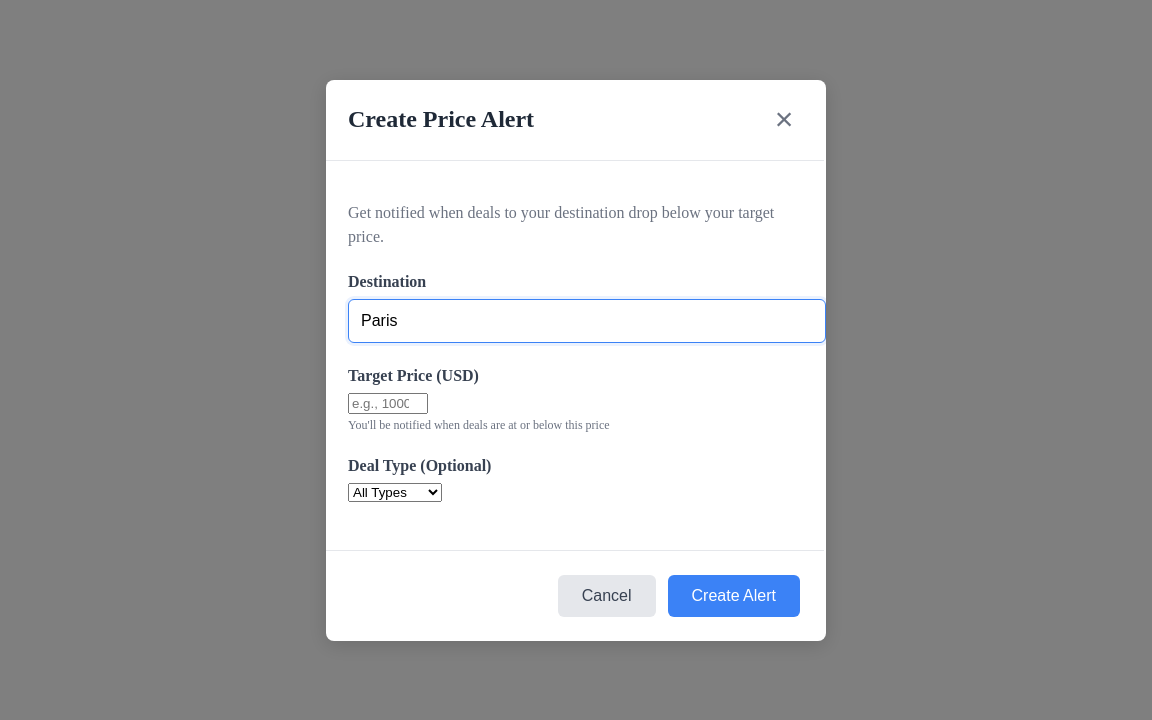
CreateAlertModal › validates invalid price
Default price is empty
Click the button "Create Alert".
click(734, 596)  # box [668,574,800,616]
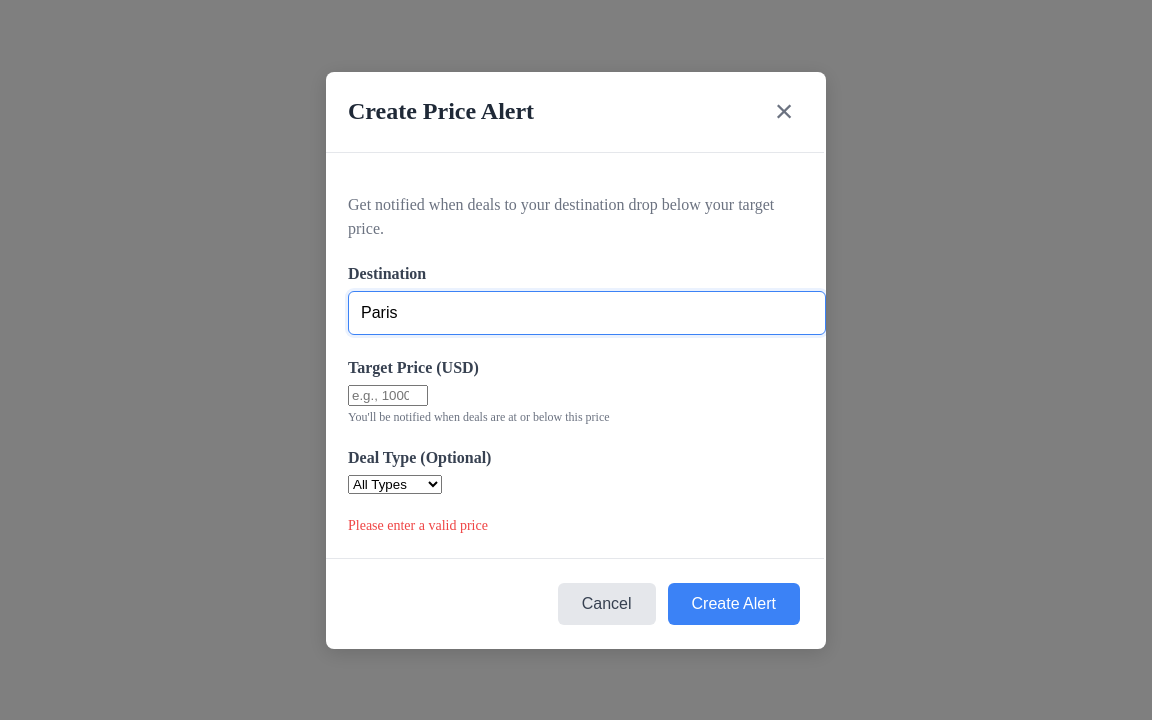
Now the text "Please enter a valid price" is shown, box [348,518,488,532]
Zero price
Type "0" into the number field labelled "Target Price (USD)".
click(388, 395); type("0")  # box [348,384,428,406]
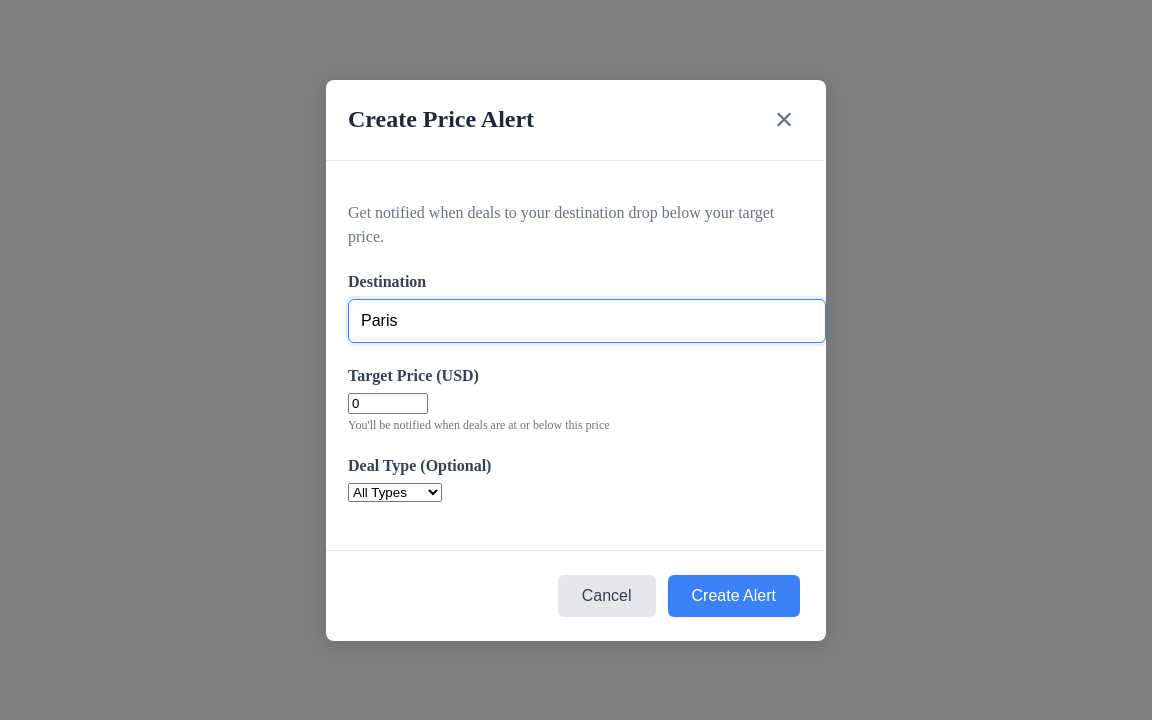
Click the button "Create Alert".
click(734, 596)  # box [668,574,800,616]
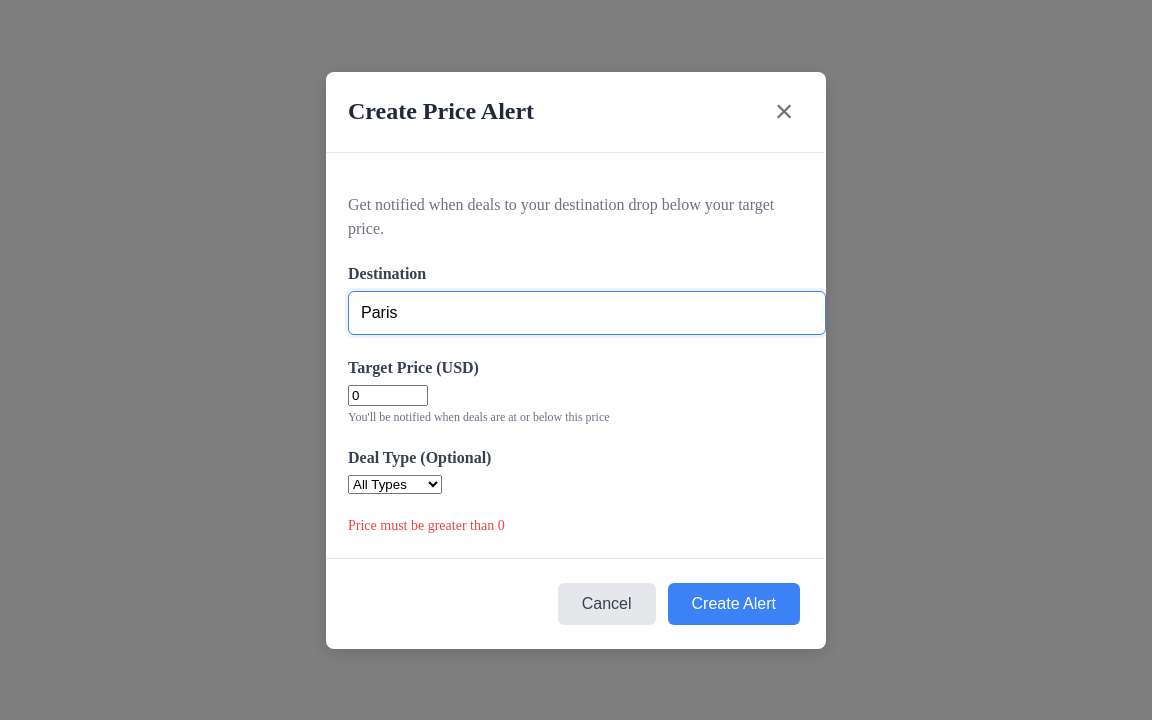
Now the text "Price must be greater than 0" is shown, box [348,518,505,532]
